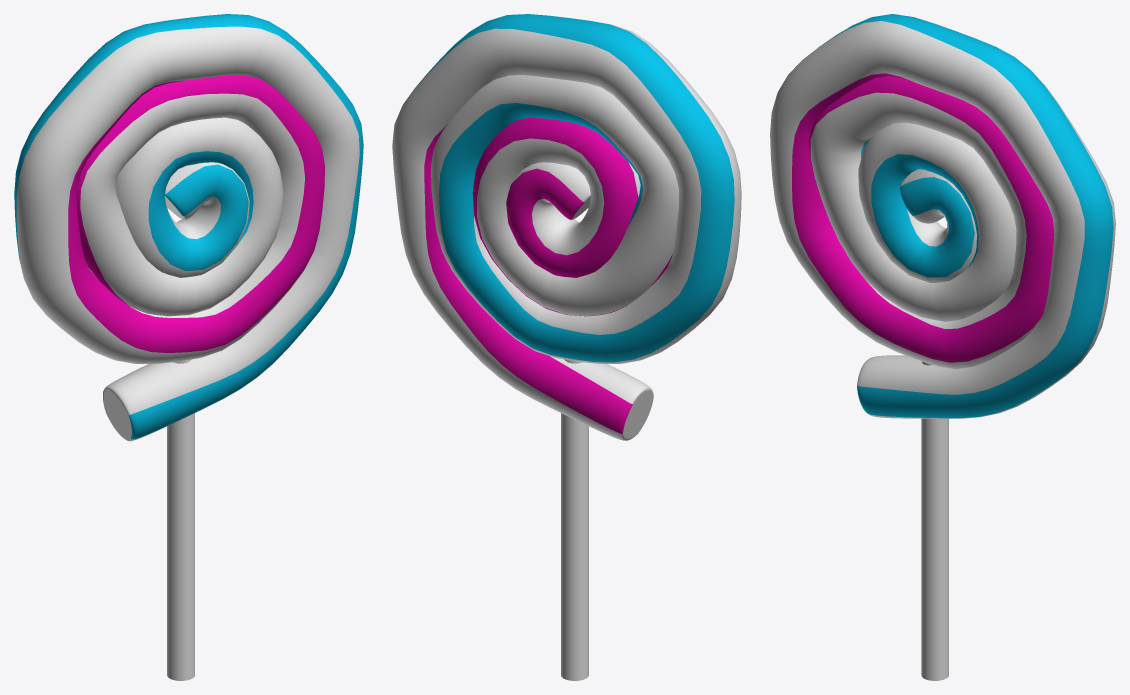
File: peroperocandy.fbx
The picture shows the model from 3 angles, left to right: view 1: azimuth 30°, elevation 25°; view 2: azimuth 150°, elevation 25°; view 3: azimuth 330°, elevation 25°; orthographic projection.
Visible parts, largest first — view 1: 円.003, 円.004; view 2: 円.003, 円.004; view 3: 円.003, 円.004.
Part boxes in pixels (<box>): 円.003: <box>14,14,363,441</box>; 円.004: <box>167,359,194,680</box>; 円.003: <box>392,14,741,440</box>; 円.004: <box>561,359,588,680</box>; 円.003: <box>770,14,1115,418</box>; 円.004: <box>921,361,948,680</box>.
Size of the model in its own units: 278 by 511 by 45.6.
